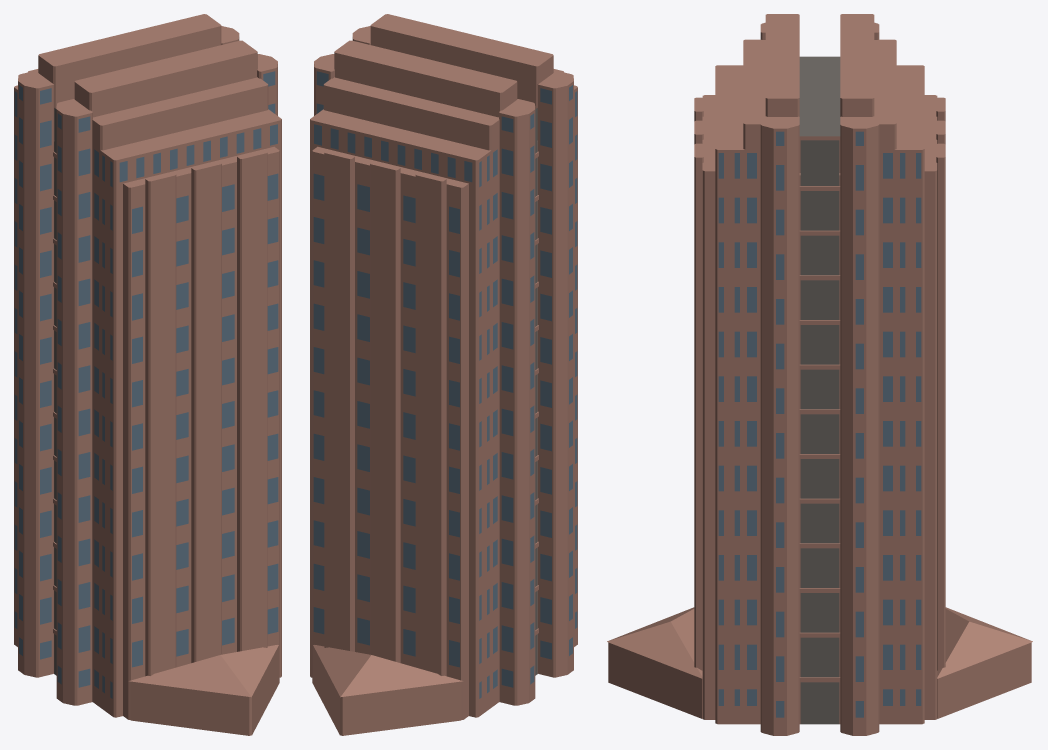
Rendered from dal-cityplace-tower.glb.
3 renders of one model, left to right at view 1: azimuth 30°, elevation 25°; view 2: azimuth 150°, elevation 25°; view 3: azimuth 270°, elevation 25°, orthographic. The views are drawn at different scales.
Visible parts, largest first — view 1: Cityplace Tower; view 2: Cityplace Tower; view 3: Cityplace Tower.
Part boxes in pixels (bbox=[...]): Cityplace Tower: bbox=[14, 14, 281, 735]; Cityplace Tower: bbox=[310, 14, 577, 735]; Cityplace Tower: bbox=[607, 14, 1032, 735].
Size of the model in its own units: 63.52 by 171 by 106.
